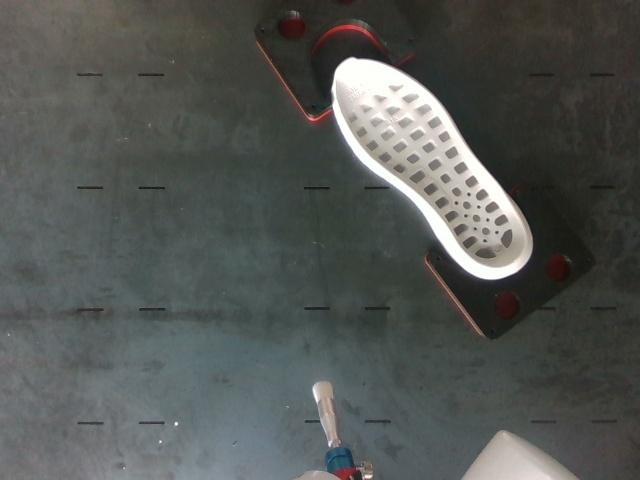shoes: (333, 59, 525, 269)
